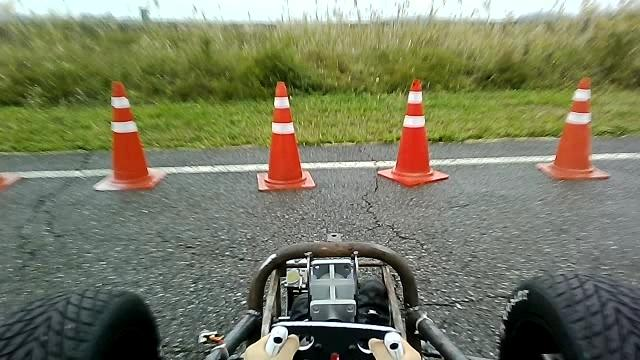red cone: (92, 79, 166, 191), (535, 75, 609, 181), (377, 78, 449, 186), (256, 80, 315, 191)
